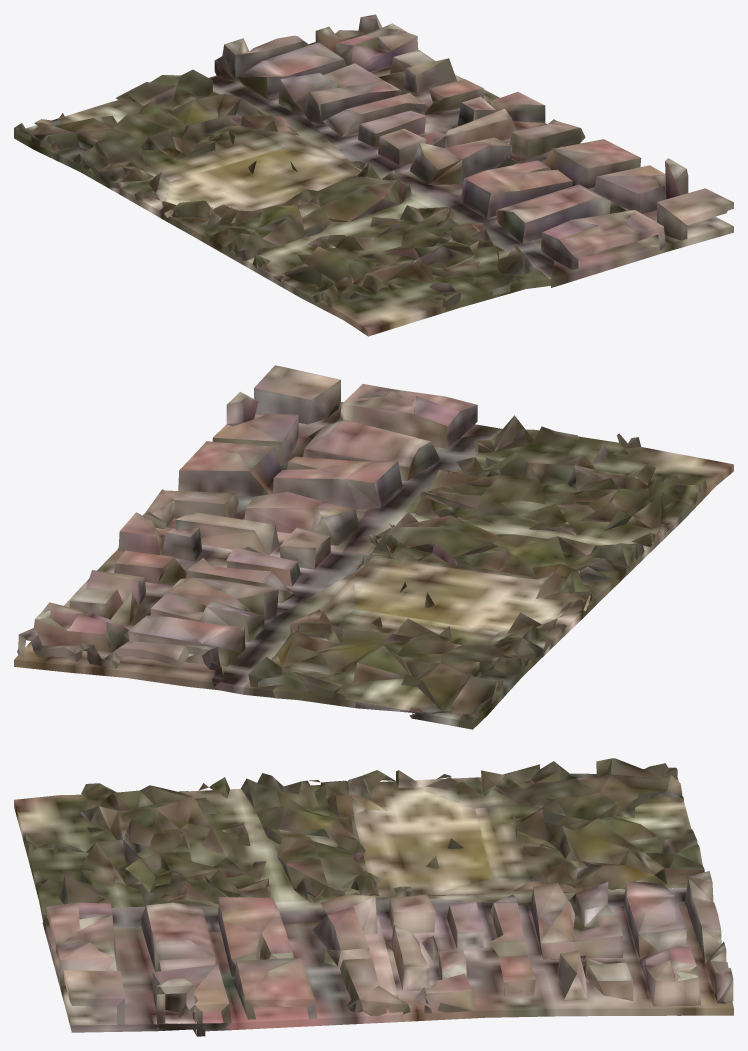
3 renders of one model, top to bottom at view 1: azimuth 30°, elevation 25°; view 2: azimuth 150°, elevation 25°; view 3: azimuth 270°, elevation 25°, orthographic. The views are drawn at different scales.
Visible parts, largest first — view 1: Mesh_0; view 2: Mesh_0; view 3: Mesh_0.
Boxes of the visible parts, x1,y1,x2,y2 form: Mesh_0: [14, 14, 733, 336]; Mesh_0: [14, 365, 733, 729]; Mesh_0: [14, 758, 733, 1036].
Size of the model in its own units: 532 by 59.53 by 659.
2 materials, 2 textured.
